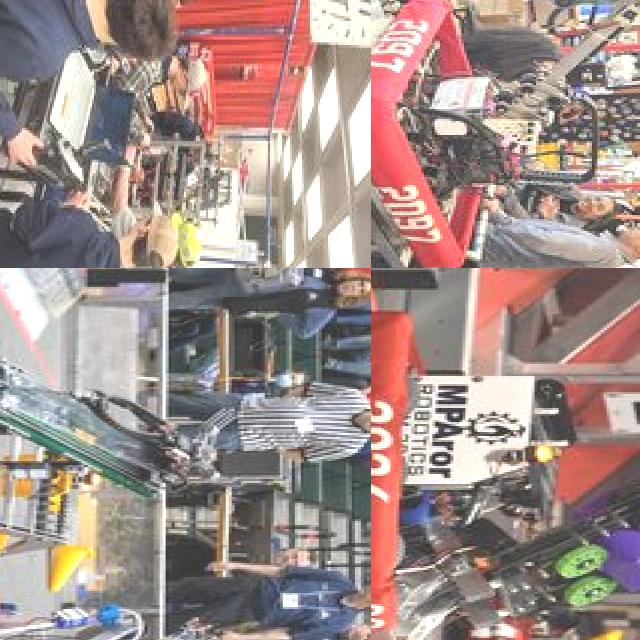FRC-Robots: (371, 269, 640, 640), (0, 281, 246, 569), (0, 544, 232, 640), (115, 101, 228, 248)
